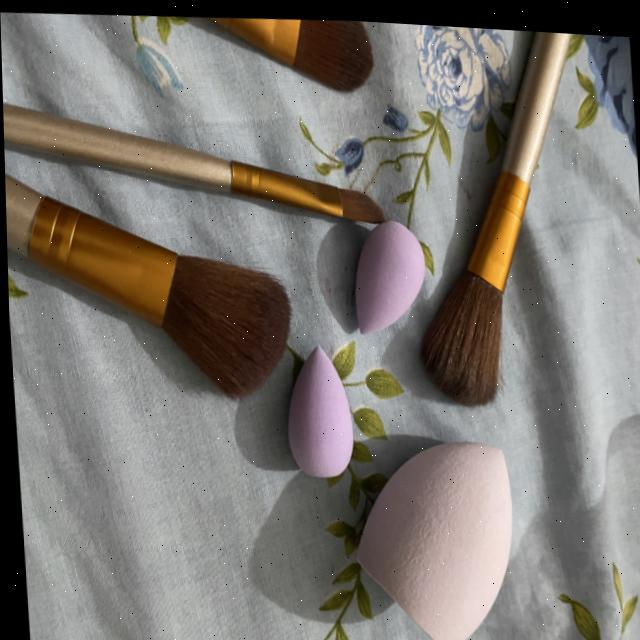beauty blender: (333, 420, 524, 640), (259, 329, 362, 489), (328, 202, 441, 346)
brush: (395, 18, 625, 423), (4, 170, 305, 409), (63, 89, 400, 239), (163, 8, 388, 113)
